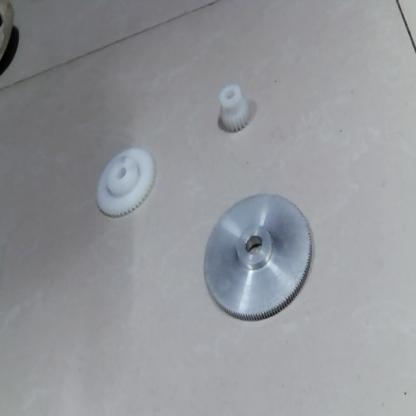FOD: (197, 188, 316, 326), (90, 143, 158, 223), (217, 82, 254, 138)
